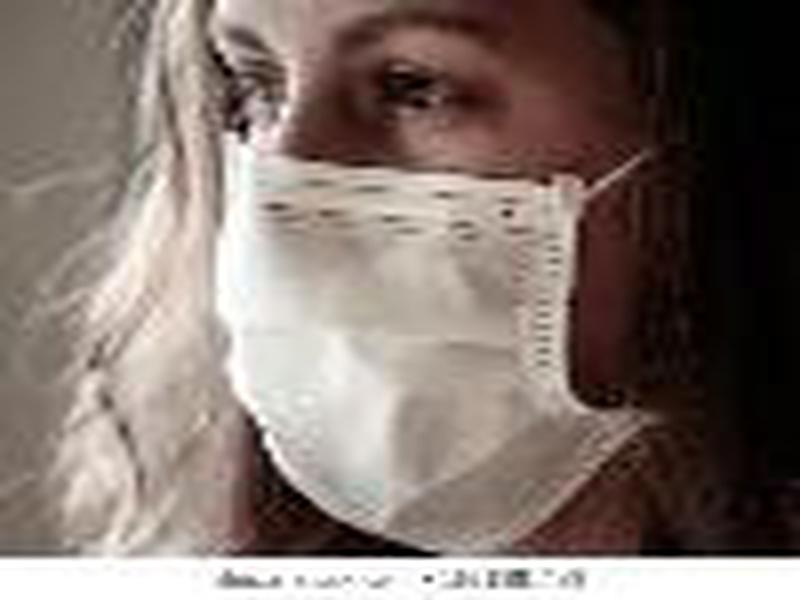with_mask: (197, 1, 781, 558)
